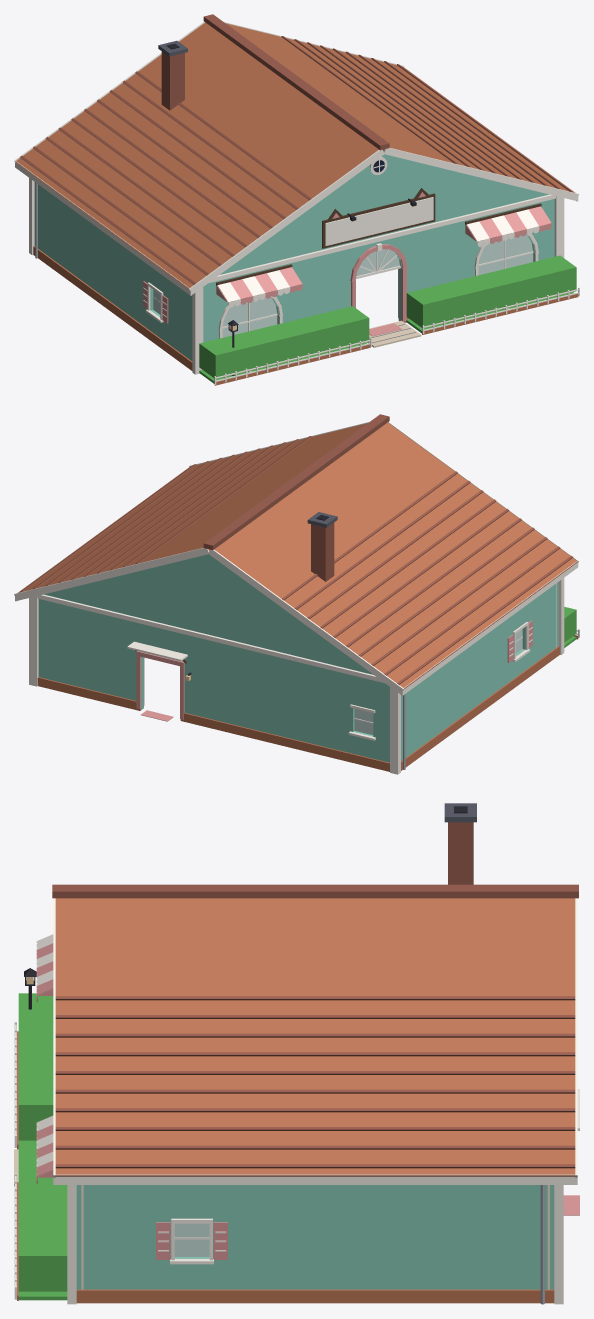
The model's file is CatCafe_Plot_Cafe_Mint_52x40.glb.
3 renders of one model, top to bottom at view 1: azimuth 30°, elevation 25°; view 2: azimuth 150°, elevation 25°; view 3: azimuth 270°, elevation 25°, orthographic. The views are drawn at different scales.
Parts seen in each view (by area): view 1: CatCafe_Plot_Cafe_Mint_52x40_Roof, CatCafe_Plot_Cafe_Mint_52x40_Paint, CatCafe_Plot_Cafe_Mint_52x40_Fireflies, CatCafe_Plot_Cafe_Mint_52x40_Trim, CatCafe_Plot_Cafe_Mint_52x40_Roof_Trim, CatCafe_Plot_Cafe_Mint_52x40_Awning, CatCafe_Plot_Cafe_Mint_52x40_Glass, CatCafe_Plot_Cafe_Mint_52x40, CatCafe_Plot_Cafe_Mint_52x40_Garden, CatCafe_Plot_Cafe_Mint_52x40_SignBoard, CatCafe_Plot_Cafe_Mint_52x40_Path, CatCafe_Plot_Cafe_Mint_52x40_Flowers; view 2: CatCafe_Plot_Cafe_Mint_52x40_Roof, CatCafe_Plot_Cafe_Mint_52x40_Paint, CatCafe_Plot_Cafe_Mint_52x40_Trim, CatCafe_Plot_Cafe_Mint_52x40_Roof_Trim, CatCafe_Plot_Cafe_Mint_52x40, CatCafe_Plot_Cafe_Mint_52x40_Glass; view 3: CatCafe_Plot_Cafe_Mint_52x40_Roof, CatCafe_Plot_Cafe_Mint_52x40_Paint, CatCafe_Plot_Cafe_Mint_52x40_Fireflies, CatCafe_Plot_Cafe_Mint_52x40, CatCafe_Plot_Cafe_Mint_52x40_Roof_Trim, CatCafe_Plot_Cafe_Mint_52x40_Trim, CatCafe_Plot_Cafe_Mint_52x40_Awning, CatCafe_Plot_Cafe_Mint_52x40_Garden, CatCafe_Plot_Cafe_Mint_52x40_Glass, CatCafe_Plot_Cafe_Mint_52x40_Wallpaper.
Boxes of the visible parts, <box> form: CatCafe_Plot_Cafe_Mint_52x40_Roof: <box>15,14,574,288</box>; CatCafe_Plot_Cafe_Mint_52x40_Paint: <box>34,154,554,360</box>; CatCafe_Plot_Cafe_Mint_52x40_Fireflies: <box>199,255,576,378</box>; CatCafe_Plot_Cafe_Mint_52x40_Trim: <box>29,156,564,374</box>; CatCafe_Plot_Cafe_Mint_52x40_Roof_Trim: <box>14,21,578,295</box>; CatCafe_Plot_Cafe_Mint_52x40_Awning: <box>216,206,551,307</box>; CatCafe_Plot_Cafe_Mint_52x40_Glass: <box>153,234,533,337</box>; CatCafe_Plot_Cafe_Mint_52x40: <box>33,160,533,370</box>; CatCafe_Plot_Cafe_Mint_52x40_Garden: <box>214,287,579,385</box>; CatCafe_Plot_Cafe_Mint_52x40_SignBoard: <box>325,197,433,245</box>; CatCafe_Plot_Cafe_Mint_52x40_Path: <box>367,320,421,347</box>; CatCafe_Plot_Cafe_Mint_52x40_Flowers: <box>199,292,573,383</box>; CatCafe_Plot_Cafe_Mint_52x40_Roof: <box>18,414,577,688</box>; CatCafe_Plot_Cafe_Mint_52x40_Paint: <box>38,554,558,762</box>; CatCafe_Plot_Cafe_Mint_52x40_Trim: <box>29,578,564,774</box>; CatCafe_Plot_Cafe_Mint_52x40_Roof_Trim: <box>14,422,578,695</box>; CatCafe_Plot_Cafe_Mint_52x40: <box>37,620,559,771</box>; CatCafe_Plot_Cafe_Mint_52x40_Glass: <box>354,629,522,734</box>; CatCafe_Plot_Cafe_Mint_52x40_Roof: <box>52,803,578,1176</box>; CatCafe_Plot_Cafe_Mint_52x40_Paint: <box>76,1185,554,1289</box>; CatCafe_Plot_Cafe_Mint_52x40_Fireflies: <box>18,993,67,1291</box>; CatCafe_Plot_Cafe_Mint_52x40: <box>76,1185,579,1304</box>; CatCafe_Plot_Cafe_Mint_52x40_Roof_Trim: <box>53,898,577,1184</box>; CatCafe_Plot_Cafe_Mint_52x40_Trim: <box>67,1089,579,1304</box>; CatCafe_Plot_Cafe_Mint_52x40_Awning: <box>36,934,53,1183</box>; CatCafe_Plot_Cafe_Mint_52x40_Garden: <box>14,968,36,1300</box>; CatCafe_Plot_Cafe_Mint_52x40_Glass: <box>174,1223,209,1256</box>; CatCafe_Plot_Cafe_Mint_52x40_Wallpaper: <box>81,1185,549,1289</box>.
Size of the model in its own units: 57.86 by 29.13 by 48.8.
1 material, 1 textured.
